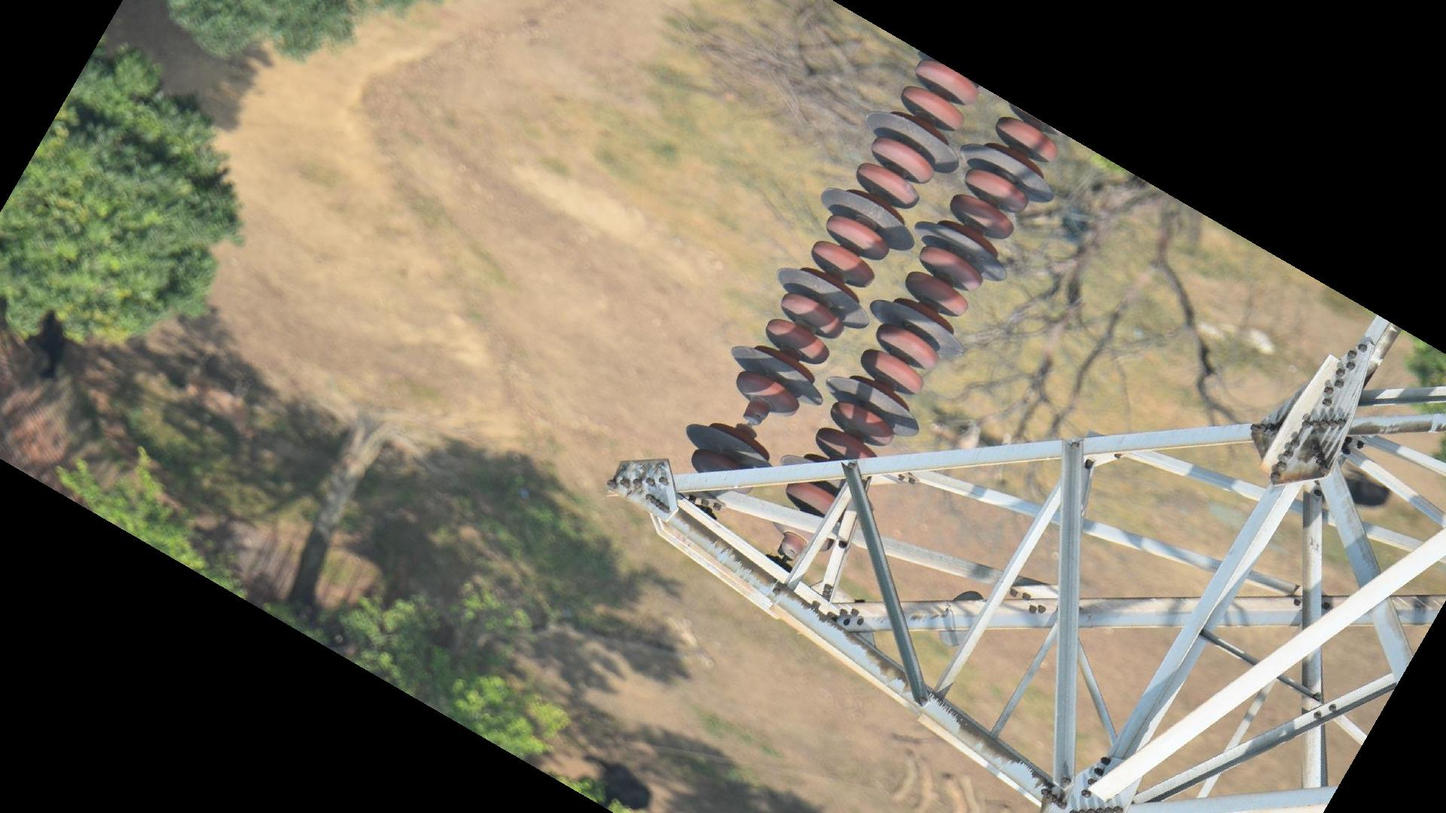insulator: (683, 53, 982, 498), (781, 100, 1059, 535)
insulator_stringdrop: (685, 364, 800, 477)
